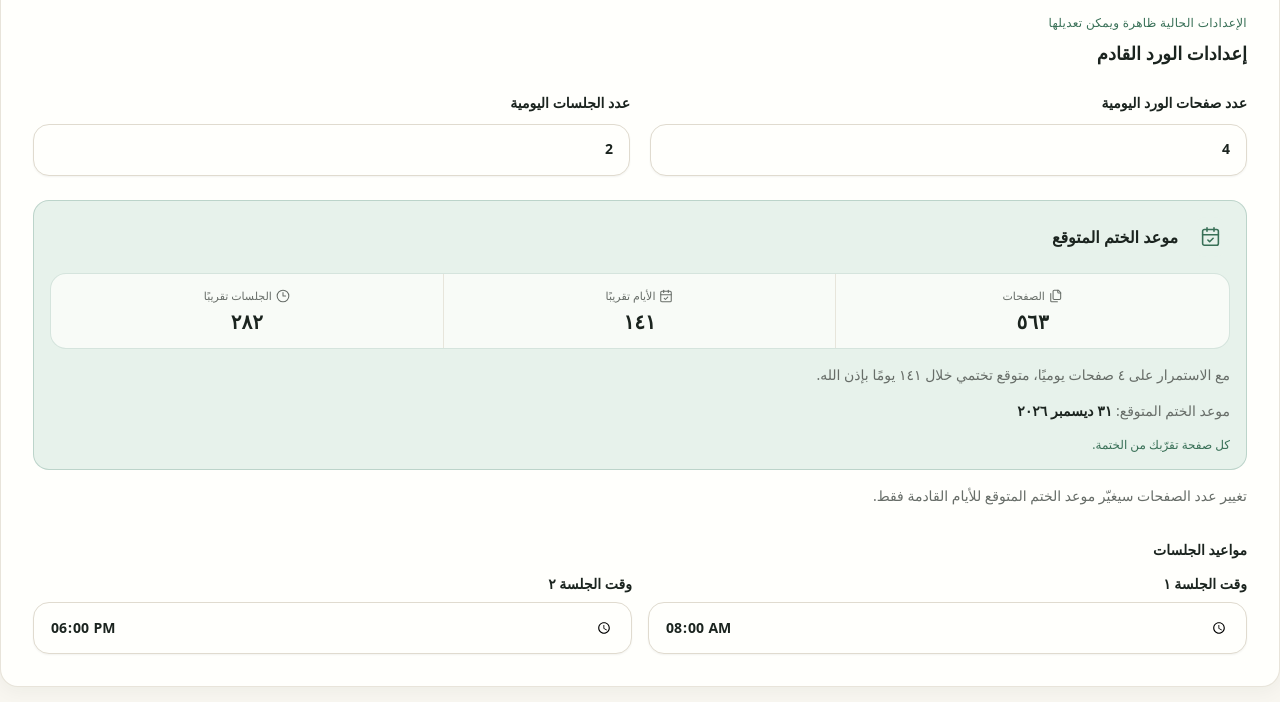
Test: PlanSettingsForm › rejects invalid daily pages before review
Replace the text in the number field labelled "عدد صفحات الورد اليومية" with "605" at (948, 150), box [650,124,1247,176]
(page scrolled)
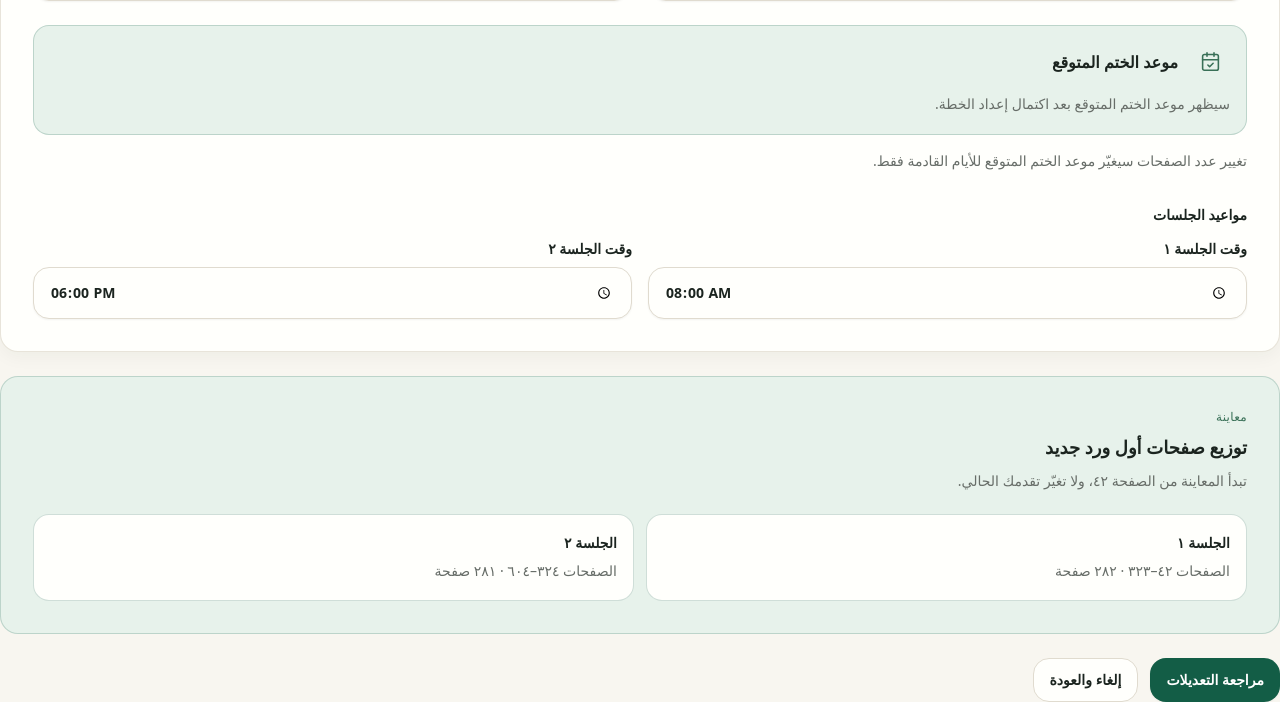
Click the button "مراجعة التعديلات".
click(1215, 680)  # box [1150,658,1279,701]
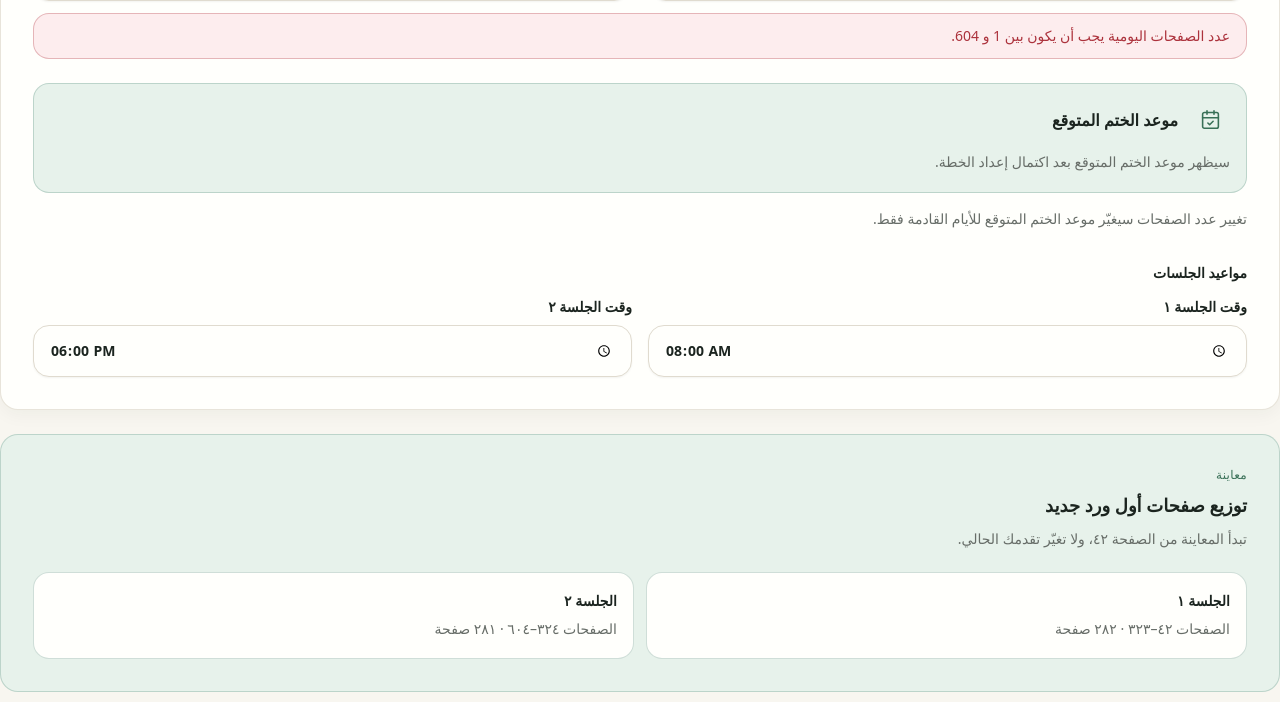
Expected: the message reads "عدد الصفحات اليومية يجب أن يكون بين 1 و 604.", [951,26,1230,44]
